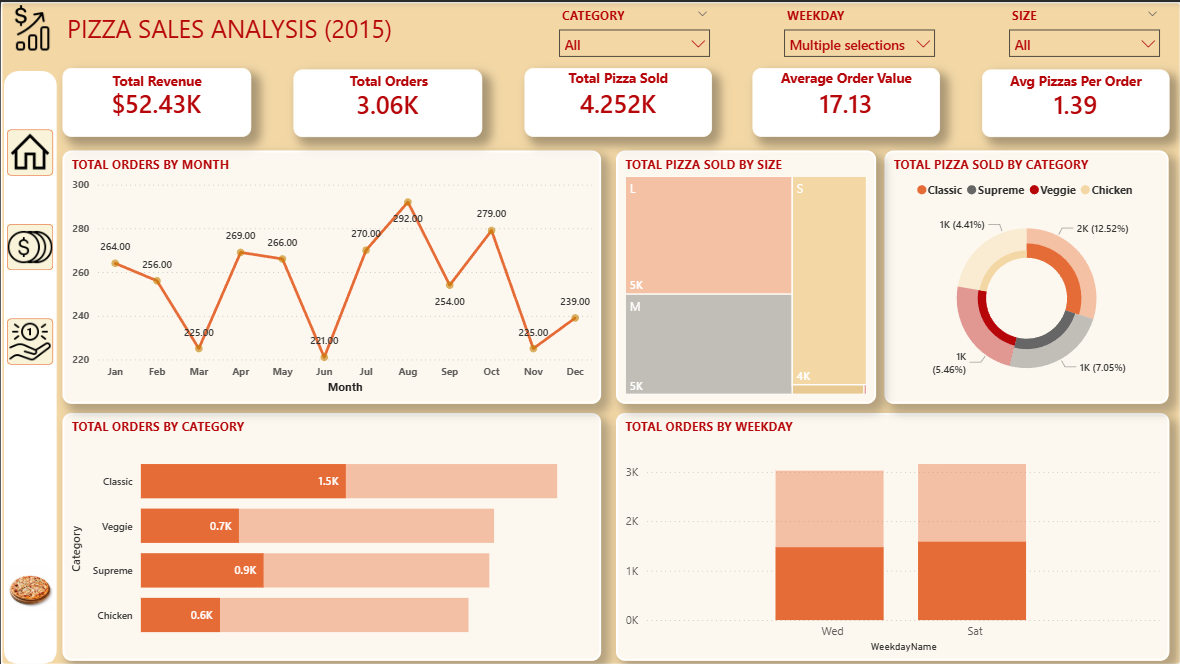

Layout of this report page (visuals, bound fields, positions):
{"tool":"powerbi","page":{"name":"Sales_Analysis_Page","canvas":[1280,720],"ordinal":0},"visuals":[{"type":"clusteredBarChart","title":"TOTAL ORDERS BY CATEGORY","fields":{"Category":["pizza_types.category"],"Y":["pizzas.Total Orders"]},"box":[67.5,446.1,584,268.5],"z":0},{"type":"cardVisual","title":"Total Revenue","fields":{"Data":["pizzas.Average Order Value"]},"box":[815.3,71.6,203.3,74.8],"z":1000},{"type":"clusteredColumnChart","title":"TOTAL ORDERS BY WEEKDAY","fields":{"Category":["Dates.WeekdayName"],"Y":["pizzas.Total Orders"]},"box":[666.2,446.1,600.2,268.5],"z":2000},{"type":"cardVisual","title":"Average Cost","fields":{"Data":["pizzas.Average Cost"]},"box":[1063.8,73.2,203.3,73.2],"z":3000},{"type":"donutChart","title":"TOTAL PIZZA  SOLD BY CATEGORY","fields":{"Category":["pizza_types.category"],"Y":["pizzas.Total Pizza Sold"]},"box":[958.2,161.4,308.2,274.4],"z":4000},{"type":"lineChart","title":"TOTAL ORDERS BY MONTH","fields":{"Category":["Dates.MonthName"],"Y":["pizzas.Total Orders"]},"box":[67.5,161.4,584,274.4],"z":5000},{"type":"treemap","title":"TOTAL PIZZA SOLD BY SIZE","fields":{"Group":["pizzas.size"],"Values":["pizzas.Total Pizza Sold"]},"box":[666.2,161.4,281.7,274.4],"z":6000},{"type":"textbox","box":[67.5,4.4,507.7,51.4],"z":7000},{"type":"cardVisual","fields":{"Data":["pizzas.Total Orders"]},"box":[316.8,73.2,204.9,73.2],"z":8000},{"type":"textbox","box":[826.3,66.7,180.5,39],"z":9000},{"type":"textbox","box":[1078.4,69.9,174,37.4],"z":10000},{"type":"textbox","box":[341.6,69.9,157.8,37.4],"z":11000},{"type":"cardVisual","fields":{"Data":["pizzas.Total Revenue"]},"box":[66.7,71.6,204.9,74.8],"z":12000},{"type":"textbox","box":[89.5,69.9,159.4,37.4],"z":13000},{"type":"slicer","fields":{"Values":["pizza_types.category"]},"box":[595.8,0,183.4,66],"z":14000},{"type":"slicer","fields":{"Values":["Dates.WeekdayName"]},"box":[839.4,0,183.4,66],"z":15000},{"type":"slicer","fields":{"Values":["pizzas.size"]},"box":[1083,0,183.4,66],"z":16000},{"type":"image","box":[0,2.9,67.5,52.8],"z":17000},{"type":"shape","box":[2.9,74.8,57.2,644.2],"z":18000},{"type":"image","box":[6.1,137.8,50,50],"z":19000},{"type":"image","box":[6.1,240.8,50,50],"z":20000},{"type":"image","box":[6.1,343.7,50,50],"z":21000},{"type":"image","box":[5.9,611.9,49.9,49.9],"z":22000},{"type":"cardVisual","title":"Total Revenue","fields":{"Data":["pizzas.Total Pizza Sold"]},"box":[566.9,71.6,203.3,74.8],"z":23000},{"type":"textbox","box":[579,66.7,180.5,39],"z":24000}]}

Visuals, with their boxes on the page's 1280x720 design canvas (x1, y1, x2, y2). These are canvas units, not pixel positions in the 1180x664 screenshot, which may show the page scaled, cropped or inside an application window:
"TOTAL ORDERS BY CATEGORY" clusteredBarChart: [x1=68, y1=446, x2=652, y2=715]
"Total Revenue" cardVisual: [x1=815, y1=72, x2=1019, y2=146]
"TOTAL ORDERS BY WEEKDAY" clusteredColumnChart: [x1=666, y1=446, x2=1266, y2=715]
"Average Cost" cardVisual: [x1=1064, y1=73, x2=1267, y2=146]
"TOTAL PIZZA  SOLD BY CATEGORY" donutChart: [x1=958, y1=161, x2=1266, y2=436]
"TOTAL ORDERS BY MONTH" lineChart: [x1=68, y1=161, x2=652, y2=436]
"TOTAL PIZZA SOLD BY SIZE" treemap: [x1=666, y1=161, x2=948, y2=436]
textbox: [x1=68, y1=4, x2=575, y2=56]
cardVisual - pizzas.Total Orders: [x1=317, y1=73, x2=522, y2=146]
textbox: [x1=826, y1=67, x2=1007, y2=106]
textbox: [x1=1078, y1=70, x2=1252, y2=107]
textbox: [x1=342, y1=70, x2=499, y2=107]
cardVisual - pizzas.Total Revenue: [x1=67, y1=72, x2=272, y2=146]
textbox: [x1=90, y1=70, x2=249, y2=107]
slicer - pizza_types.category: [x1=596, y1=0, x2=779, y2=66]
slicer - Dates.WeekdayName: [x1=839, y1=0, x2=1023, y2=66]
slicer - pizzas.size: [x1=1083, y1=0, x2=1266, y2=66]
image: [x1=0, y1=3, x2=68, y2=56]
shape: [x1=3, y1=75, x2=60, y2=719]
image: [x1=6, y1=138, x2=56, y2=188]
image: [x1=6, y1=241, x2=56, y2=291]
image: [x1=6, y1=344, x2=56, y2=394]
image: [x1=6, y1=612, x2=56, y2=662]
"Total Revenue" cardVisual: [x1=567, y1=72, x2=770, y2=146]
textbox: [x1=579, y1=67, x2=760, y2=106]
